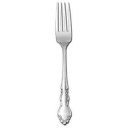fork: (49, 3, 82, 127)
